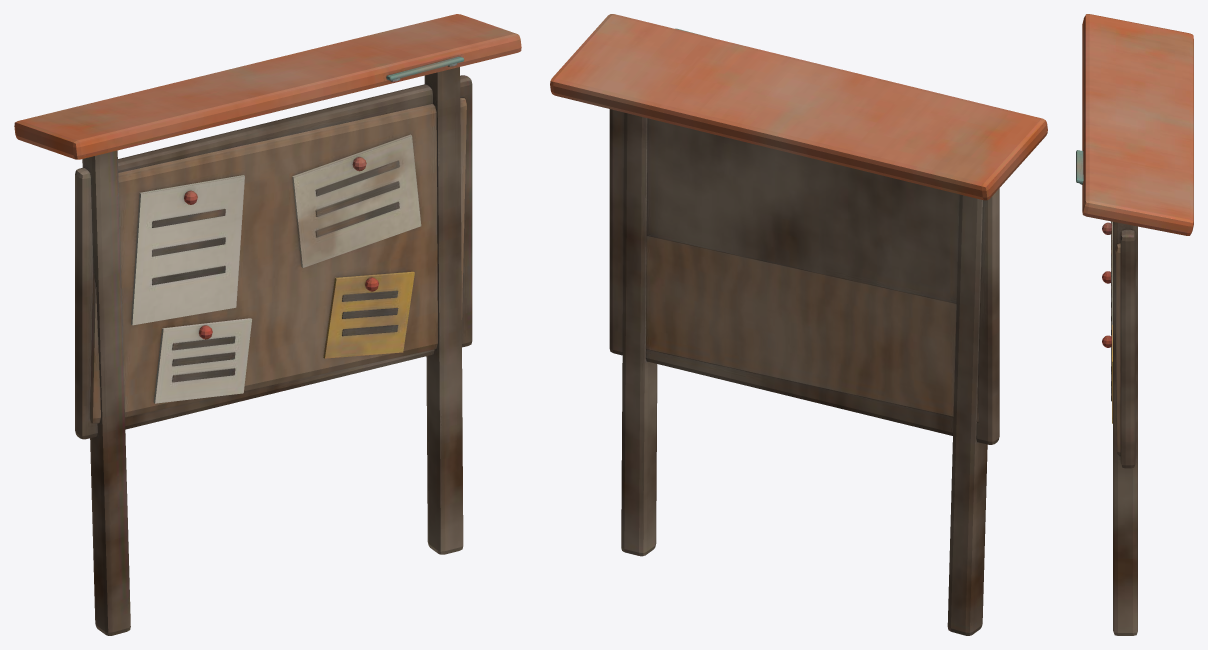
File: notice_board.glb
The picture shows the model from 3 angles, left to right: view 1: azimuth 30°, elevation 25°; view 2: azimuth 150°, elevation 25°; view 3: azimuth 270°, elevation 25°; orthographic projection. The views are drawn at different scales.
Visible parts, largest first — view 1: NoticeBoard_Mesh; view 2: NoticeBoard_Mesh; view 3: NoticeBoard_Mesh.
Part boxes in pixels (x1,y1,x2,y2): NoticeBoard_Mesh: [14, 14, 521, 635]; NoticeBoard_Mesh: [550, 14, 1047, 635]; NoticeBoard_Mesh: [1076, 14, 1193, 635].
Bounding box in the file's own units: 1.8 × 2 × 0.4713.
Materials: 1 (1 with a texture image).
